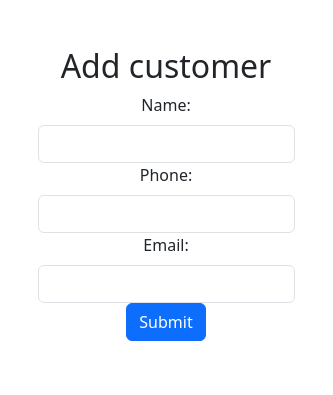
it: CustomerForm › shows error message on submission failure
The image size is (333, 395).
In the field labelled "Name:": (166, 144) [38, 125, 294, 163], type "John Doe"
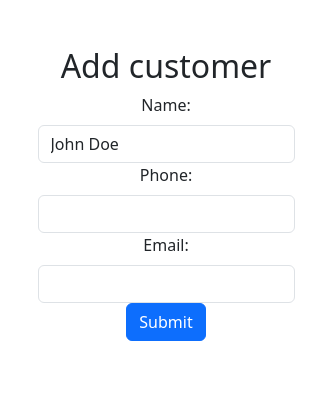
In the field labelled "Phone:": (166, 214) [38, 195, 294, 233], type "1234567890"
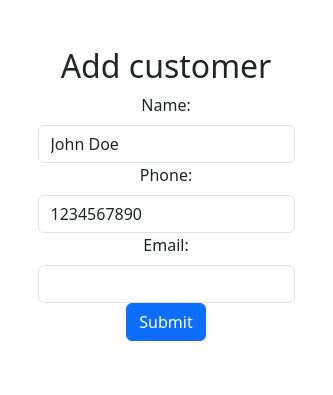
In the field labelled "Email:": (166, 284) [38, 265, 294, 303], type "john@example.com"
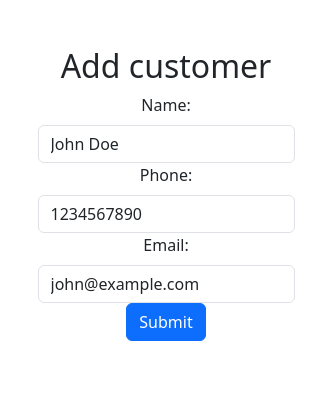
Click the button "Submit": (166, 322) [126, 303, 206, 341]
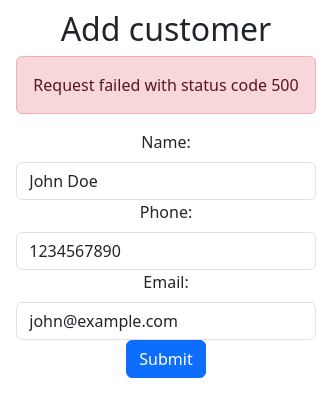
Check: the text "Request failed with status code 500" is shown, box [16, 56, 316, 114]
